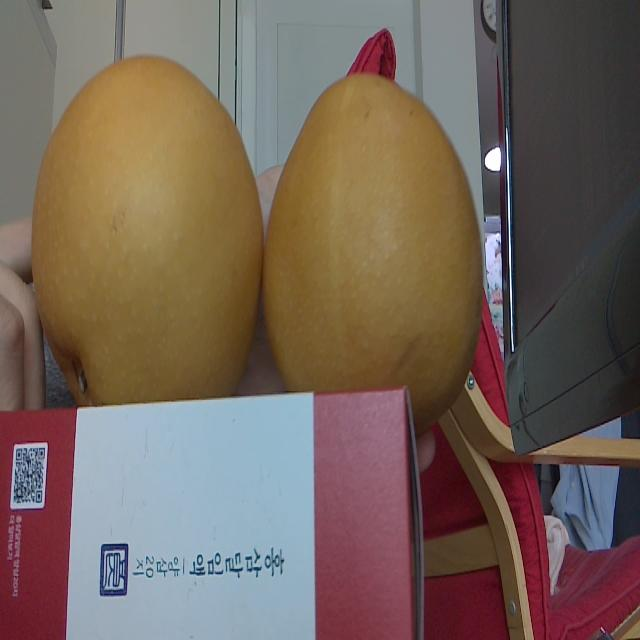pear: (30, 55, 260, 402), (260, 73, 487, 402)
